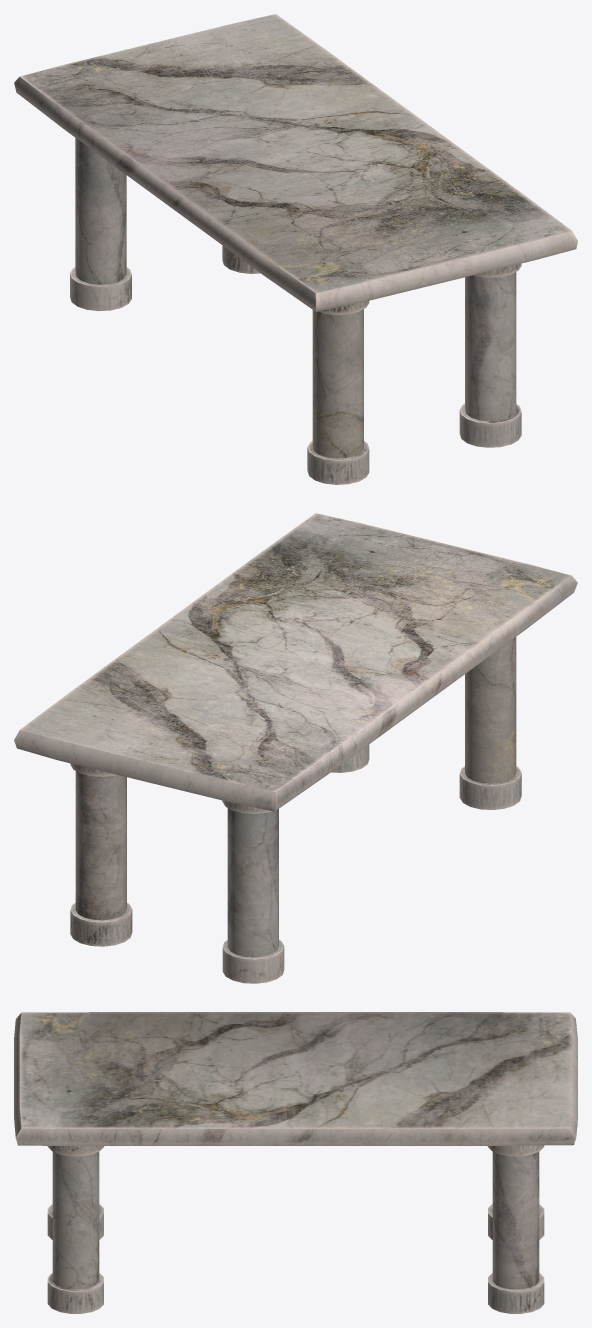
The model's file is marble_table.glb.
3 views of the same model, one above another, from view 1: azimuth 30°, elevation 25°; view 2: azimuth 150°, elevation 25°; view 3: azimuth 270°, elevation 25° (orthographic). The views are drawn at different scales.
Visible parts, largest first — view 1: Cylinder.001; view 2: Cylinder.001; view 3: Cylinder.001.
Part boxes in pixels (x1=…): Cylinder.001: x1=14, y1=14, x2=577, y2=484; Cylinder.001: x1=14, y1=513, x2=577, y2=983; Cylinder.001: x1=14, y1=1012, x2=577, y2=1313.
Bounding box in the file's own units: 0.9986 × 0.7703 × 2.
1 material, 1 textured.
